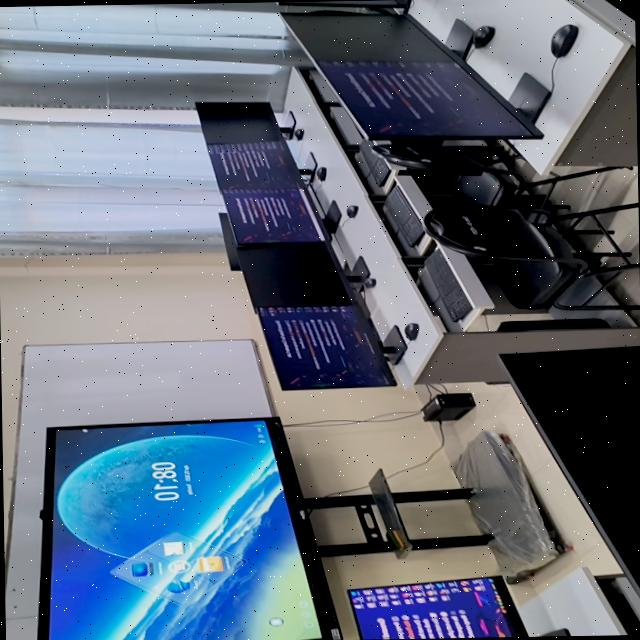Chair: (422, 201, 640, 310), (370, 141, 538, 205)
Digital board: (47, 418, 323, 640), (500, 344, 640, 597)
Keyboard: (424, 249, 473, 321), (383, 184, 424, 245), (359, 139, 390, 186)
Monitor: (317, 58, 537, 136), (255, 304, 395, 389), (348, 574, 528, 639), (282, 11, 452, 62), (238, 240, 351, 306), (222, 188, 323, 243), (206, 136, 304, 189), (195, 101, 290, 143), (278, 0, 412, 12), (219, 211, 239, 269)
Mouse: (550, 23, 577, 57), (473, 24, 494, 46), (404, 321, 418, 339), (346, 204, 358, 216), (315, 166, 325, 180), (363, 276, 375, 287), (294, 128, 303, 139), (463, 112, 470, 114)
